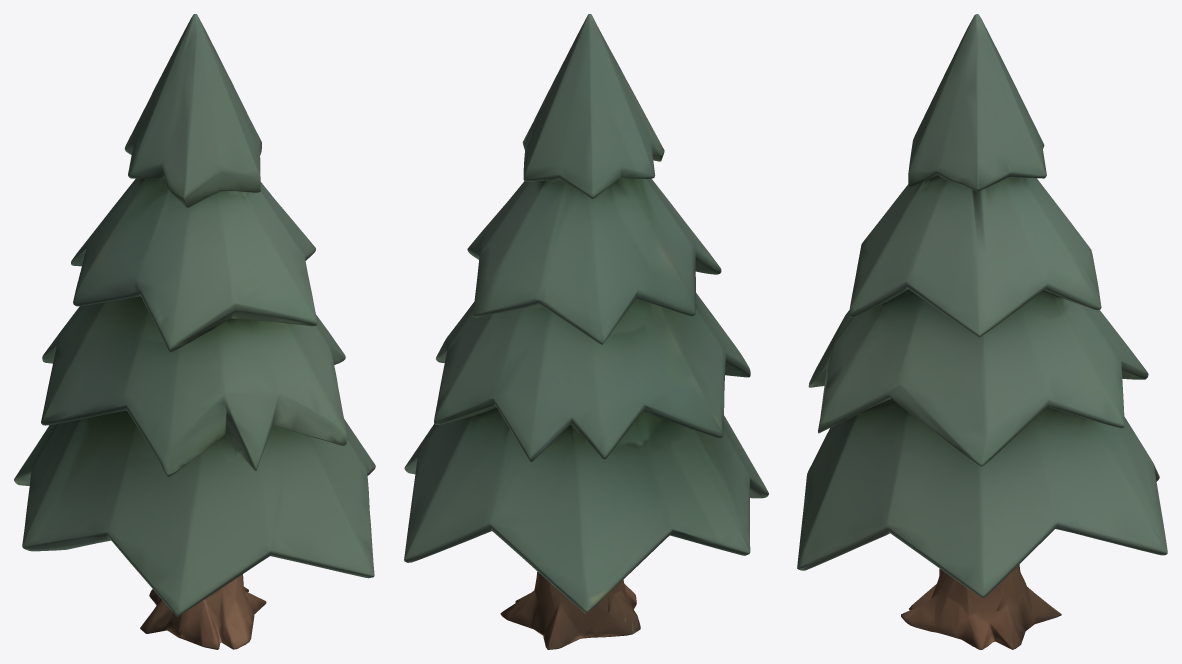
File: pine4.fbx
3 renders of one model, left to right at view 1: azimuth 30°, elevation 25°; view 2: azimuth 150°, elevation 25°; view 3: azimuth 270°, elevation 25°, orthographic.
Visible parts, largest first — view 1: pine4; view 2: pine4; view 3: pine4.
Part boxes in pixels (x1,y1,x2,y2): pine4: (14, 14, 375, 649); pine4: (404, 14, 768, 649); pine4: (797, 14, 1167, 649).
Size of the model in its own units: 29.03 by 48.27 by 26.95.
Materials: 1 (1 with a texture image).
